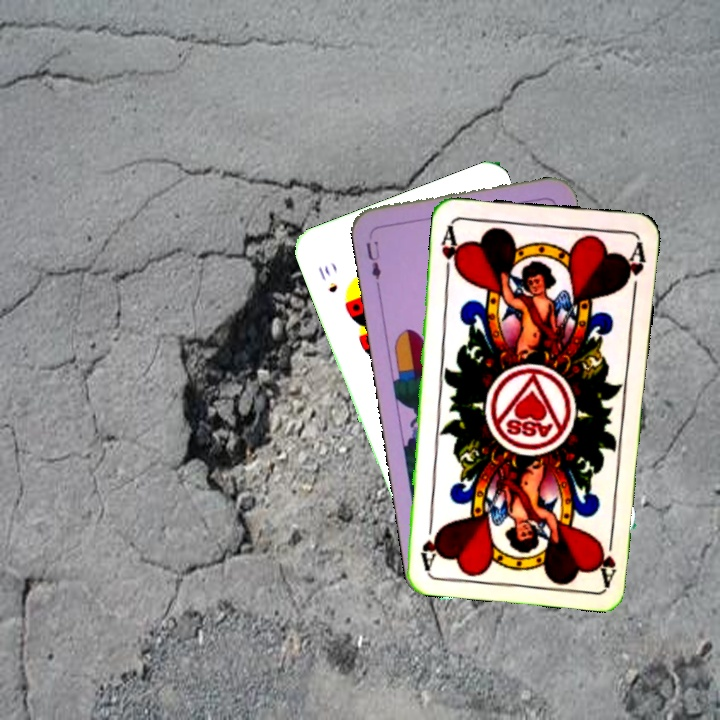EU: (362, 236, 384, 289)
HA: (437, 220, 464, 279), (593, 526, 619, 586)
S10: (314, 261, 340, 296)
